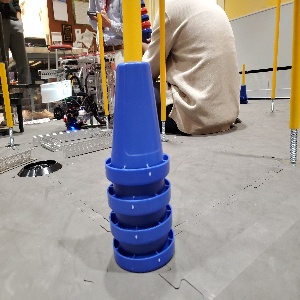Blue_2: (239, 83, 248, 104)
Blue_4: (104, 61, 174, 273)
